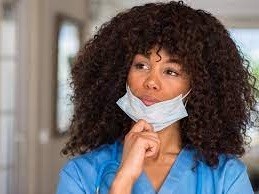mask_weared_incorrect: (120, 42, 190, 127)
